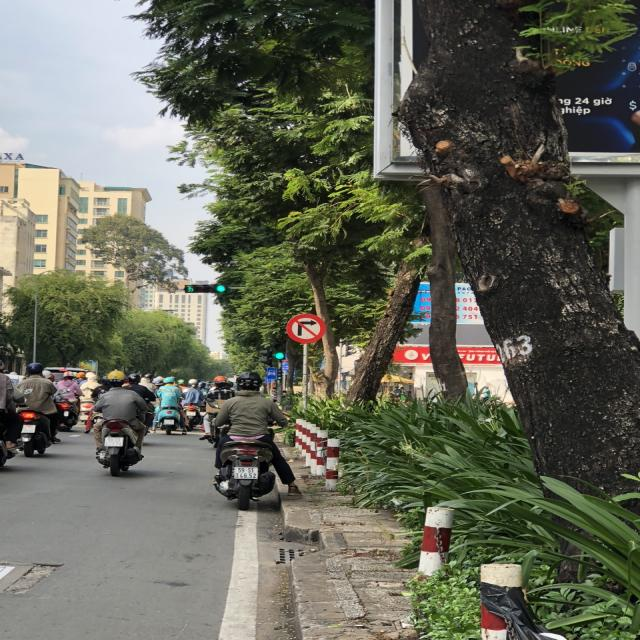Bien bao cam re phai: (282, 310, 330, 346)
